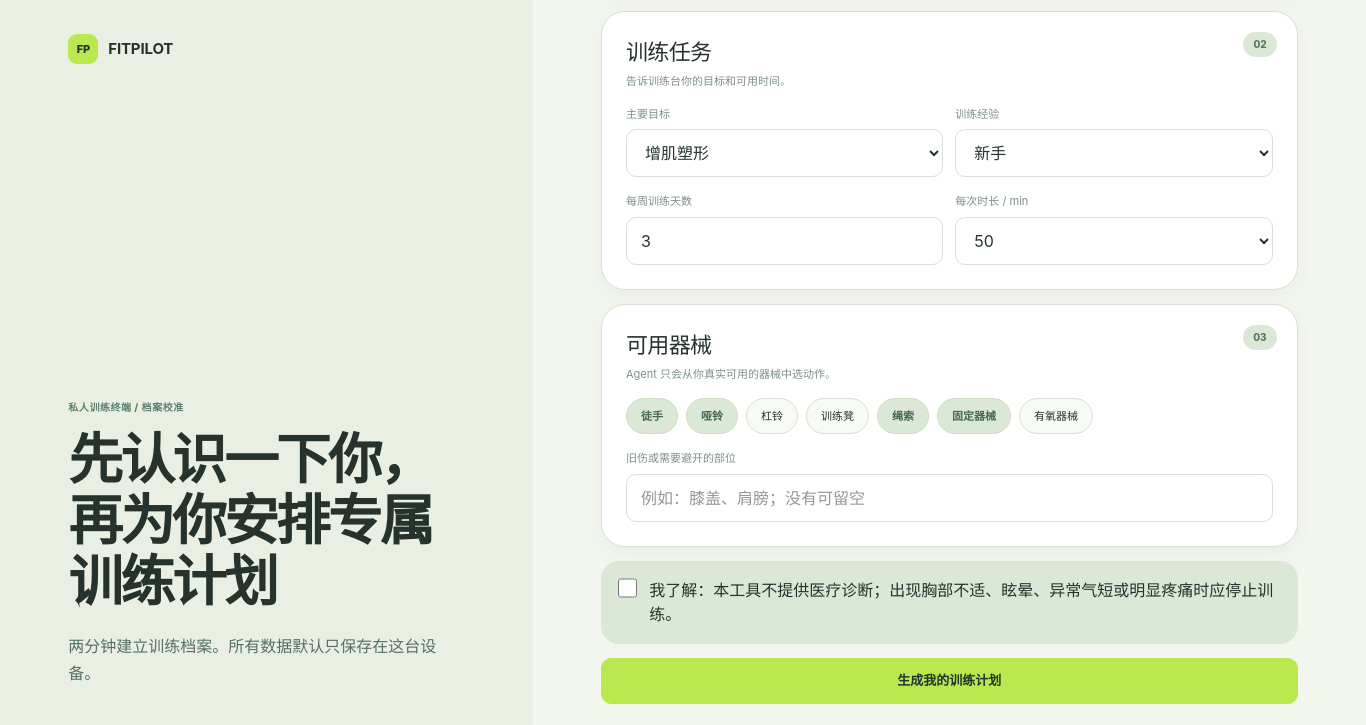
Test: OnboardingFlow › requires a name before creating a profile
(page scrolled)
Click the checkbox labelled "我了解：本工具不提供医疗诊断；出现胸部不适、眩晕、异常气短或明显疼痛时应停止训练。" at (628, 588), box [618,578,637,598]
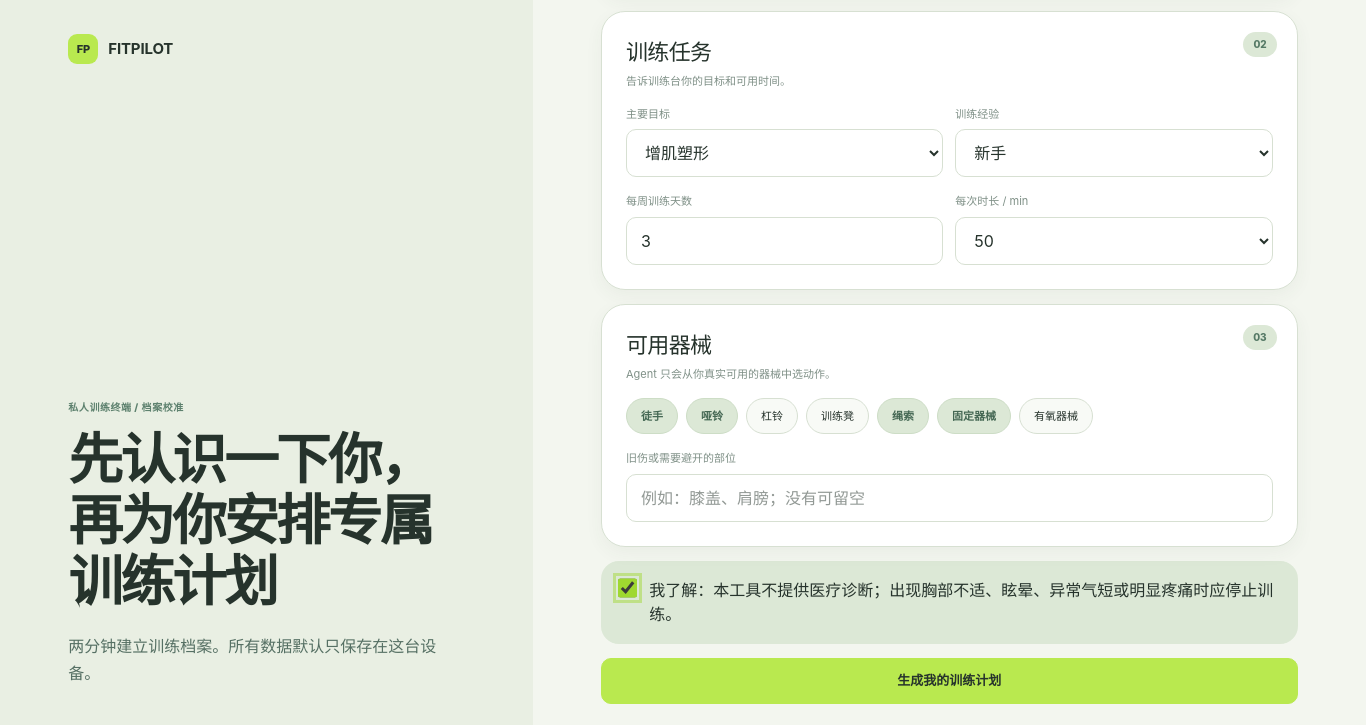
Click the button "生成我的训练计划" at (949, 681), box [601,658,1298,704]
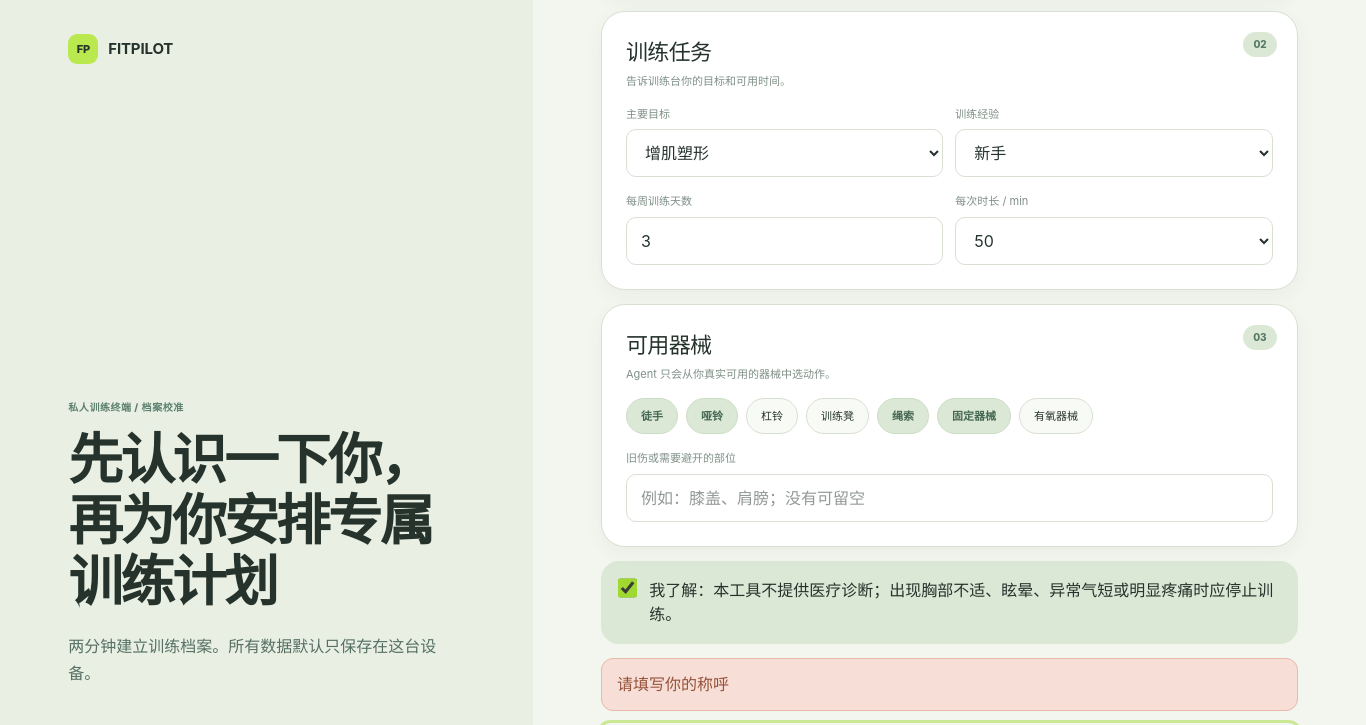
Check: the text "请填写你的称呼" is shown, box [601,658,1298,711]
